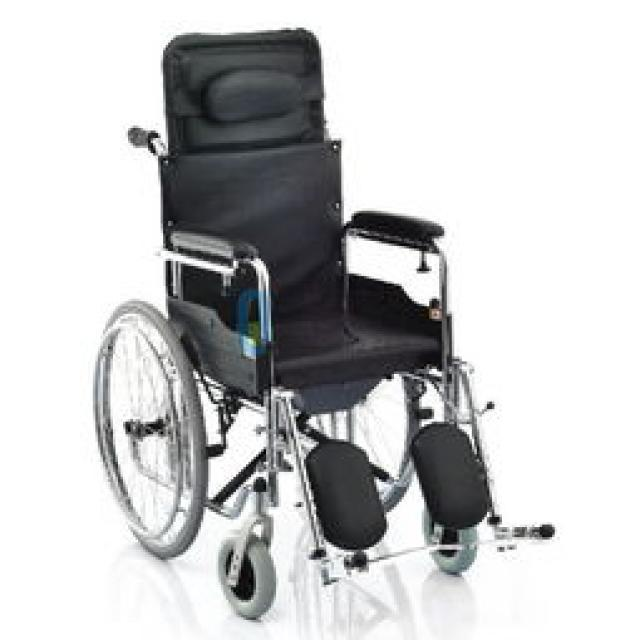wheelchairs: (92, 29, 558, 616)
